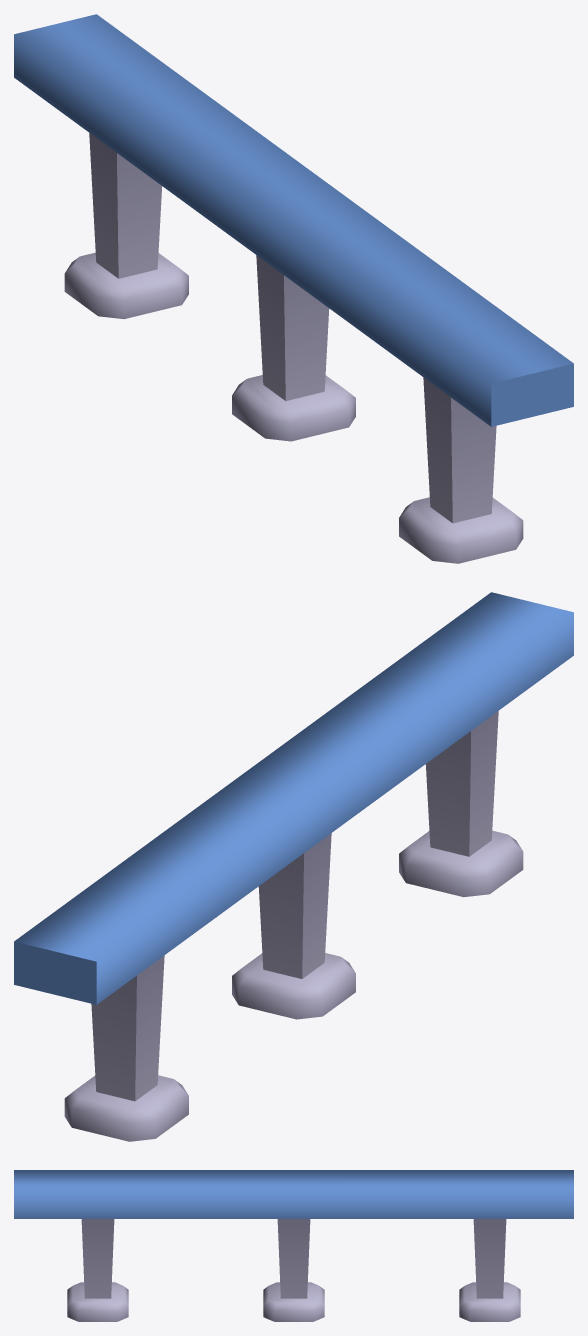
Rendered from sport_rail.glb.
The picture shows the model from 3 angles, top to bottom: view 1: azimuth 30°, elevation 25°; view 2: azimuth 150°, elevation 25°; view 3: azimuth 270°, elevation 25°; orthographic projection. The views are drawn at different scales.
Visible parts, largest first — view 1: rail-low; view 2: rail-low; view 3: rail-low.
Part boxes in pixels (left/top/right/bottom): rail-low: left=14, top=14, right=573, bottom=563; rail-low: left=14, top=592, right=573, bottom=1141; rail-low: left=14, top=1170, right=573, bottom=1321.
Bounding box in the file's own units: 0.11 × 0.25 × 1.
Materials: 1 (1 with a texture image).
